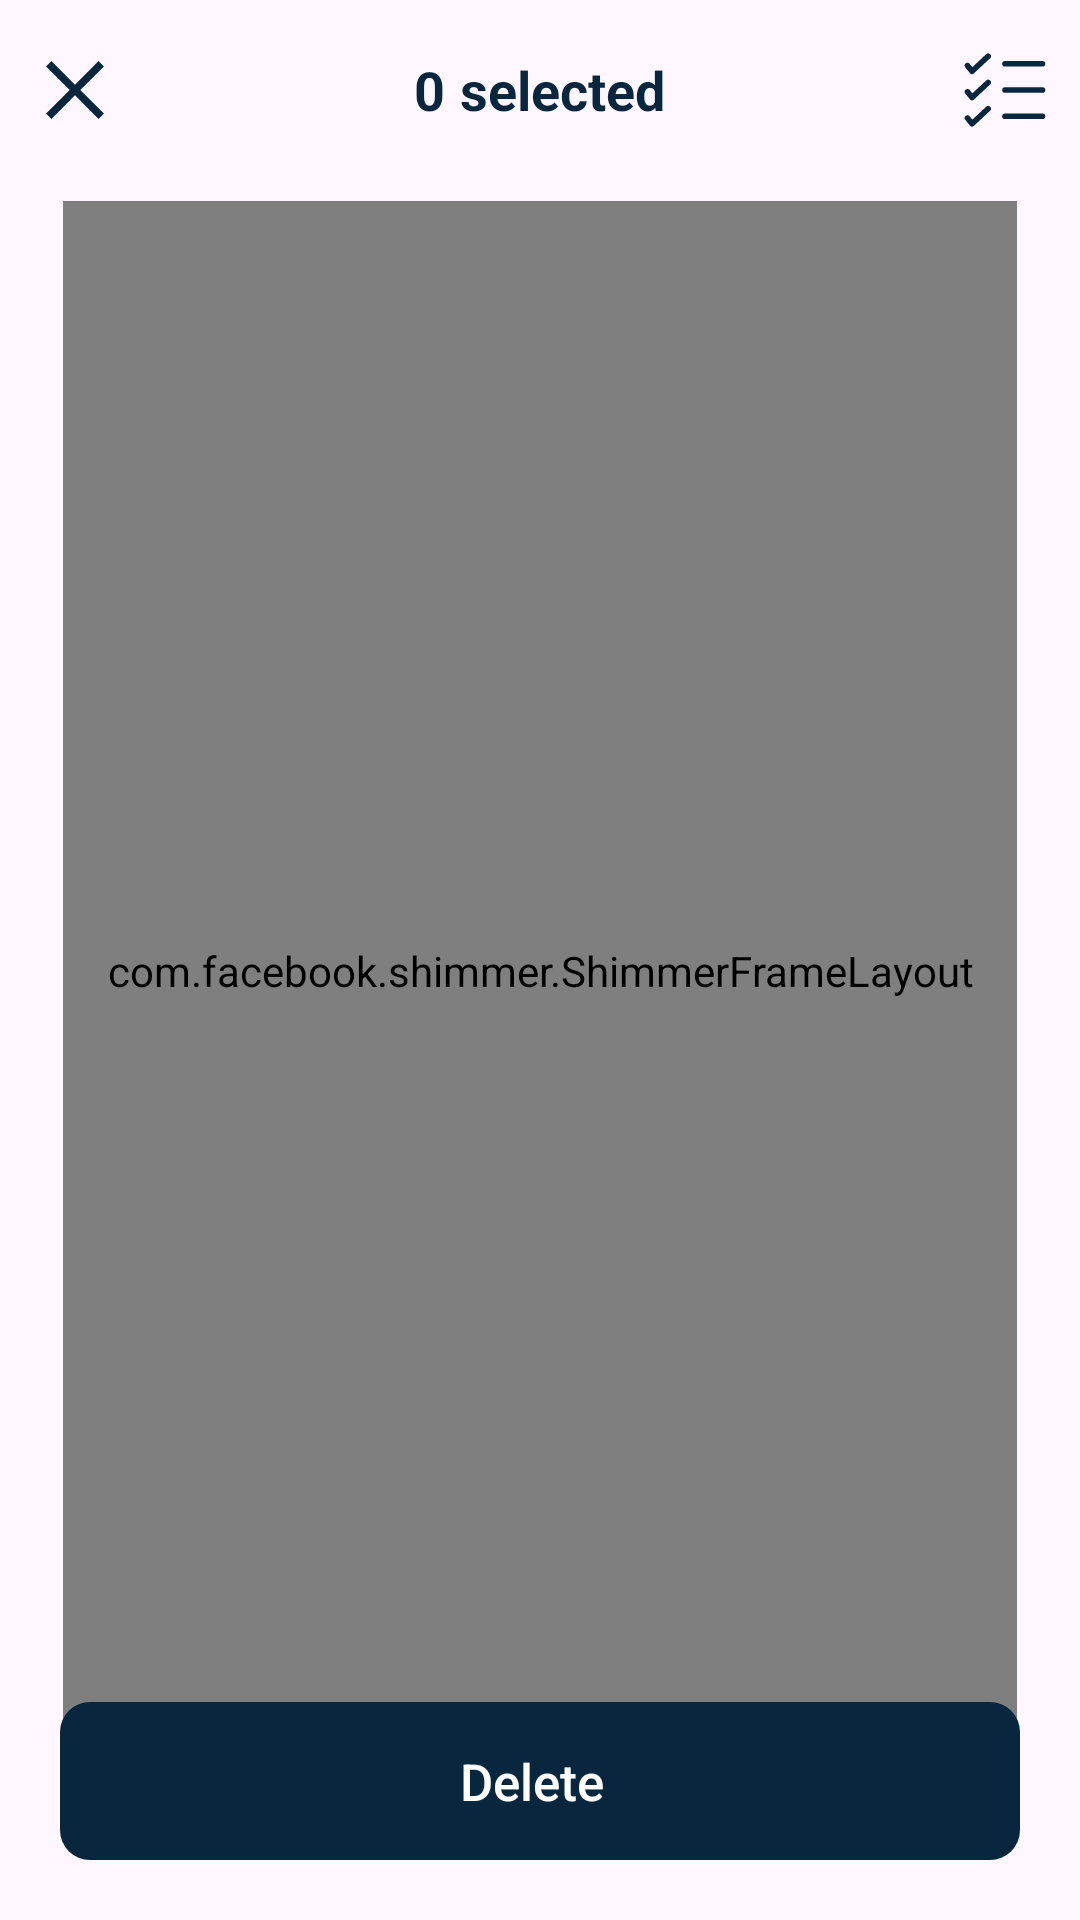

Icon click points for this 1080px×1920px phone screenshot, format (x=x, y=y):
Back to previous screen: (x=75, y=90)
Mark all contact: (x=1005, y=90)
